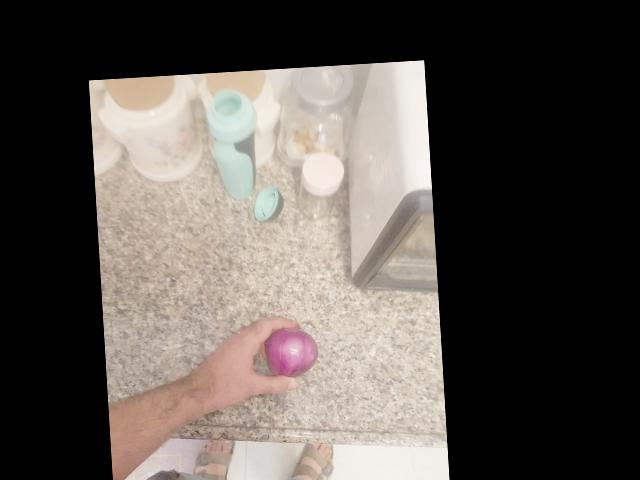onion: (256, 326, 316, 383)
